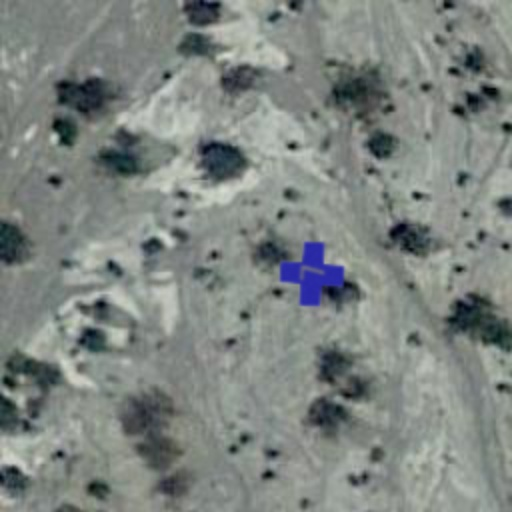cross: (276, 238, 348, 310)
